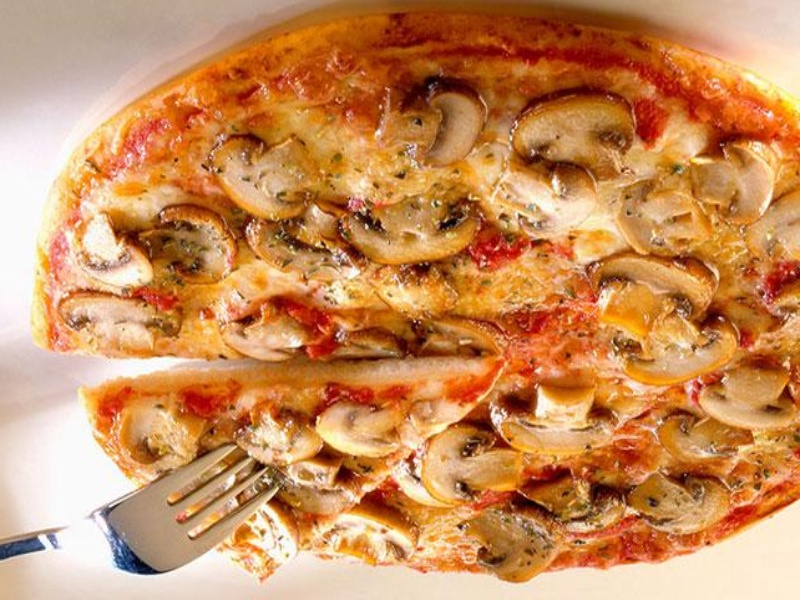champignon: (507, 83, 636, 183), (581, 254, 719, 344), (486, 377, 629, 451), (209, 135, 321, 223), (681, 135, 778, 234), (419, 422, 523, 501), (693, 355, 800, 430)
